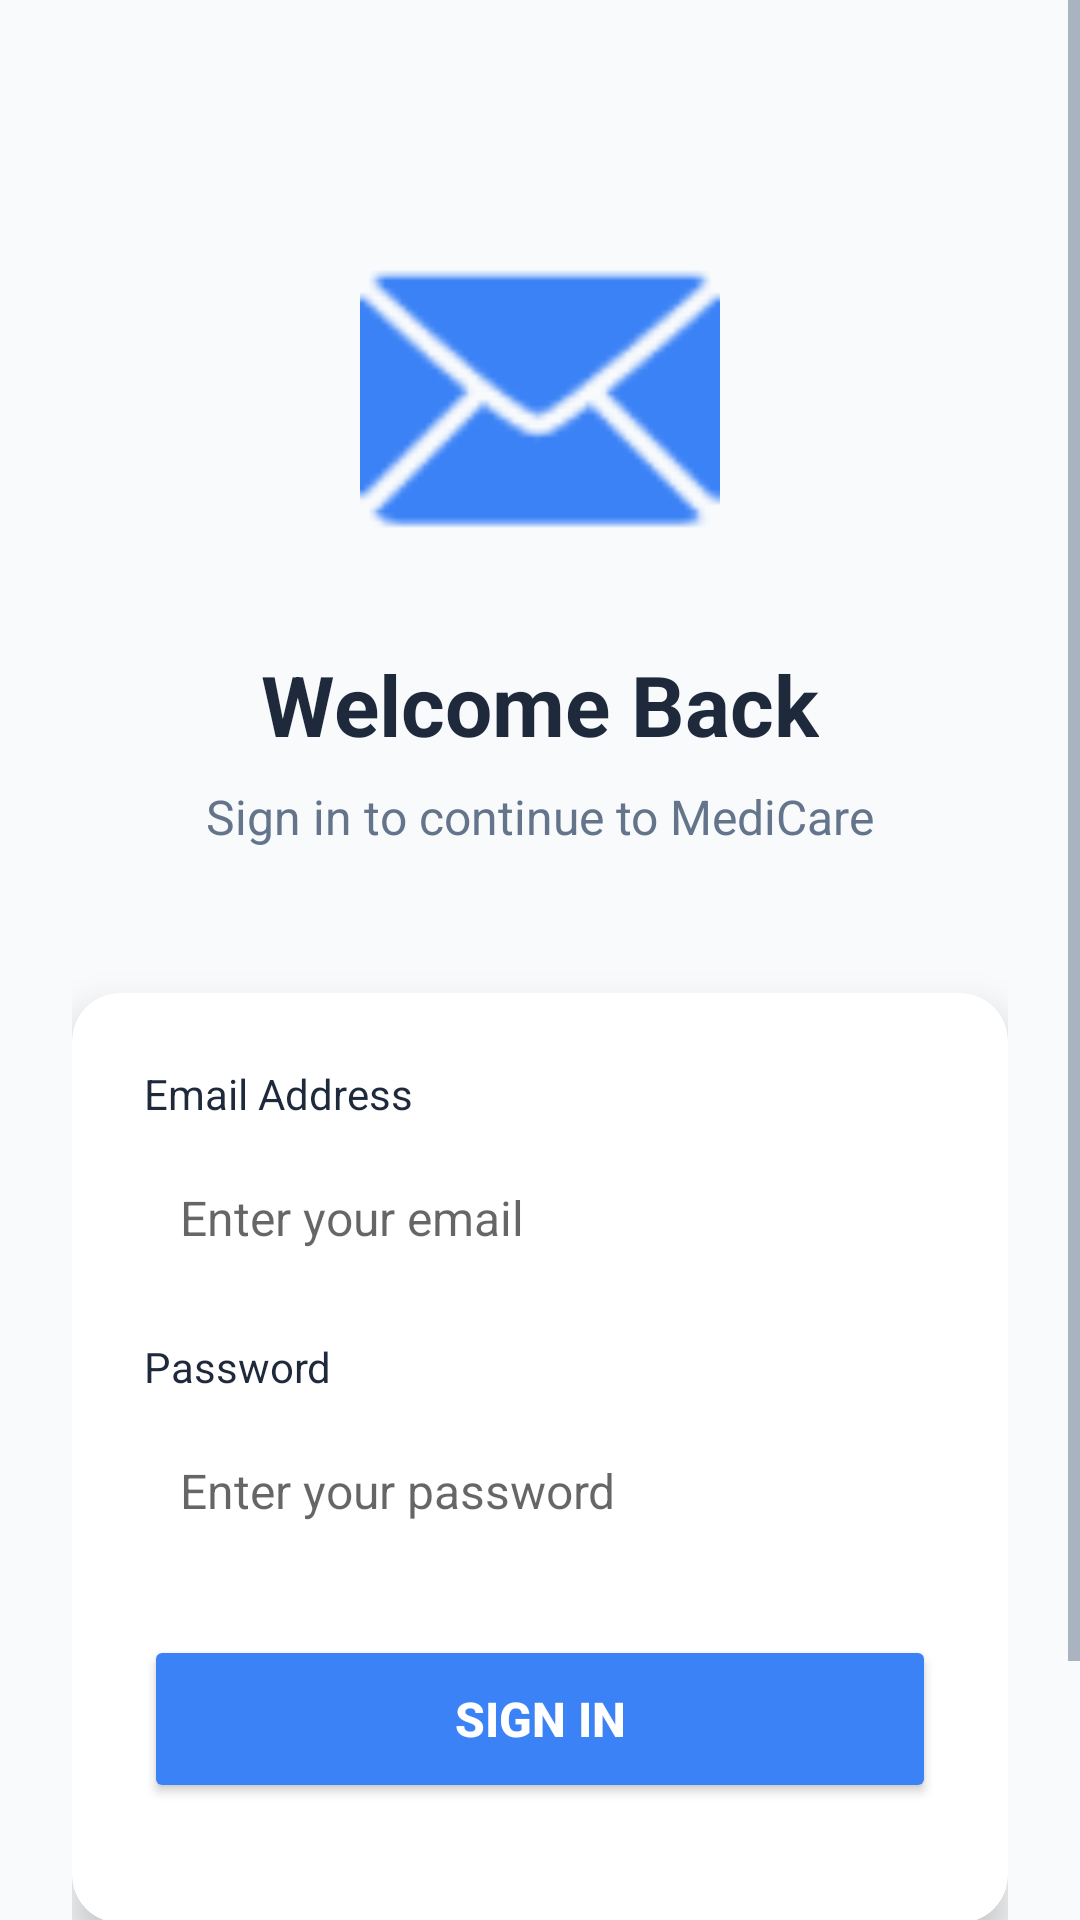

Locate icon controls on the screen. Image size 1080 × 1920, boxes as (x1, y1, x2, y2).
email: (360, 272, 720, 527)
